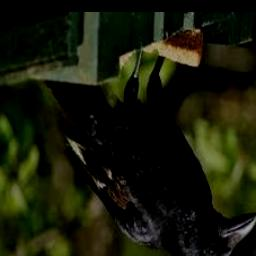Crow: (41, 44, 256, 256)
